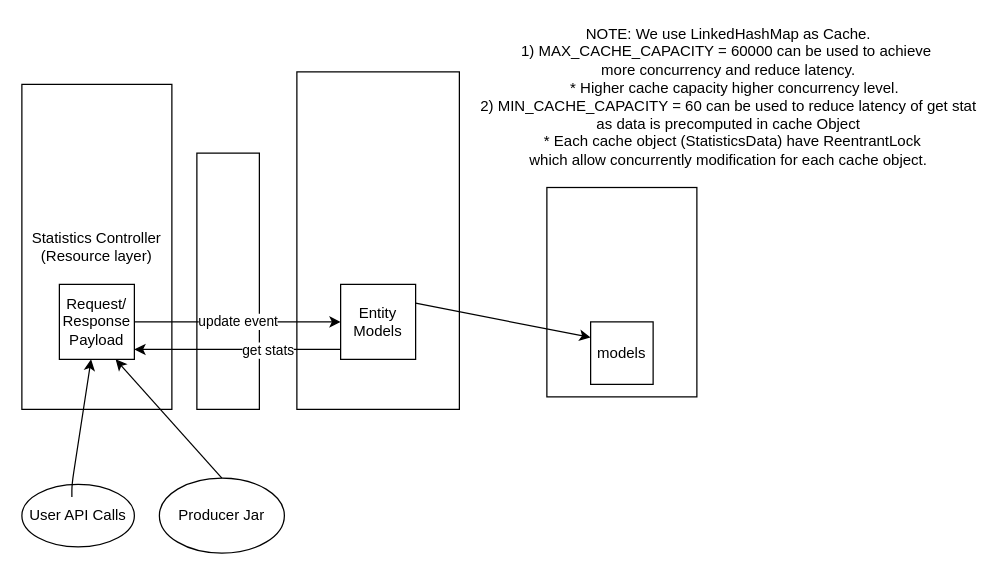
Image size: 1006x575. Some labels were removed from this diagram. Here are the shapes that lost their labels. From the top down, the box of each, then its label:
(296, 71, 459, 409): Statistics Service (Business Layer Logic)
(196, 152, 259, 409): Statistics Mapper
(546, 186, 697, 397): Cache layer (DAO) Crud on data models
